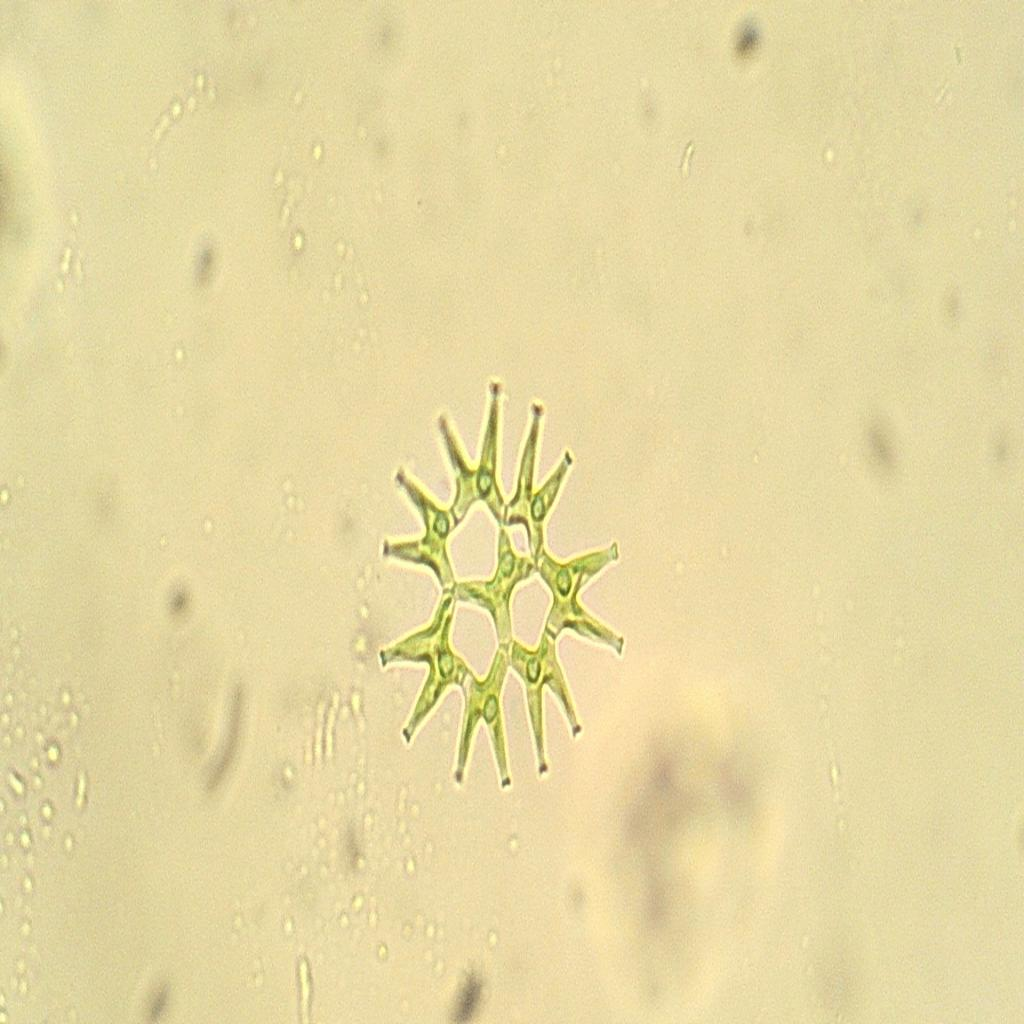Pediastrum_75T: (362, 362, 632, 800)
